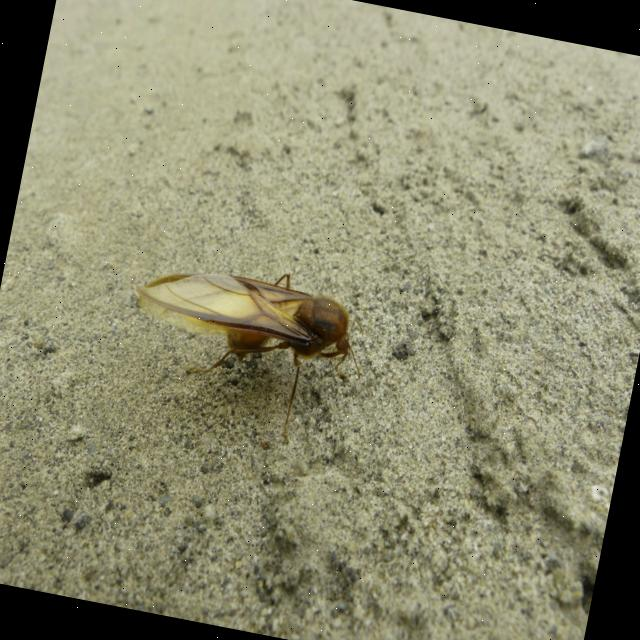Alive-Male-Alate: (112, 244, 378, 453)
